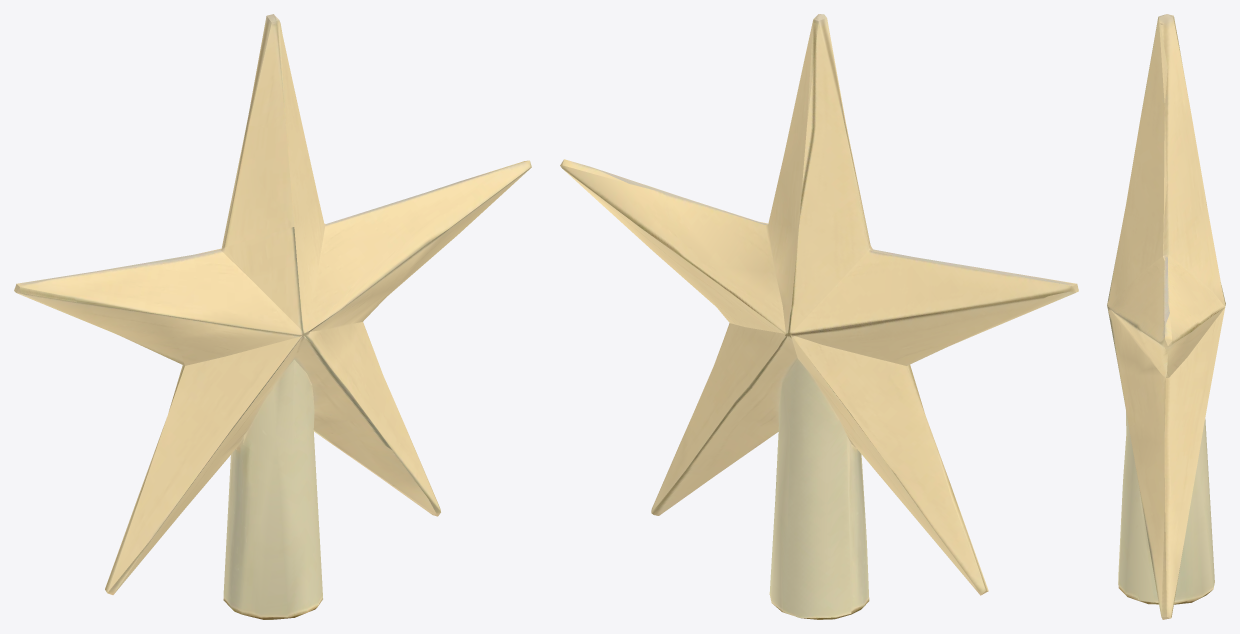
Rendered from Golden_Star-top.glb.
The picture shows the model from 3 angles, left to right: view 1: azimuth 30°, elevation 25°; view 2: azimuth 150°, elevation 25°; view 3: azimuth 270°, elevation 25°; orthographic projection. The views are drawn at different scales.
Visible parts, largest first — view 1: Mesh1.0; view 2: Mesh1.0; view 3: Mesh1.0.
Part boxes in pixels (x1,y1,x2,y2): Mesh1.0: [14, 14, 531, 619]; Mesh1.0: [560, 14, 1078, 619]; Mesh1.0: [1107, 14, 1225, 619].
Bounding box in the file's own units: 0.1382 × 0.15 × 0.0282.
Materials: 1 (1 with a texture image).
